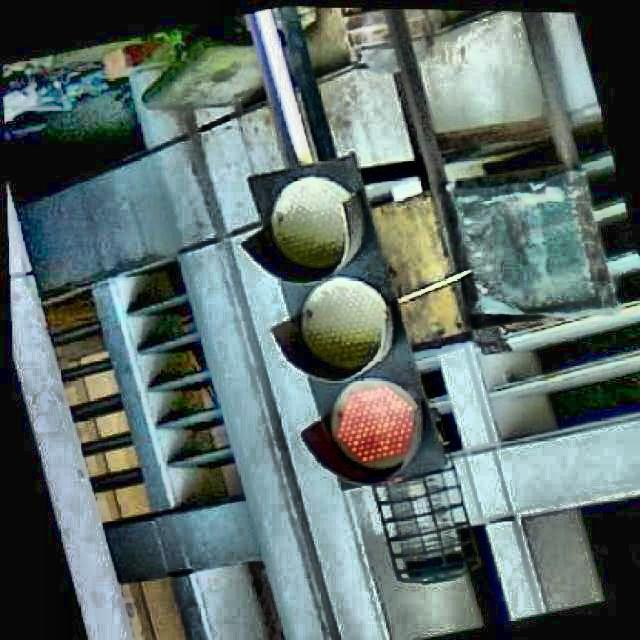red: (248, 173, 450, 479)
